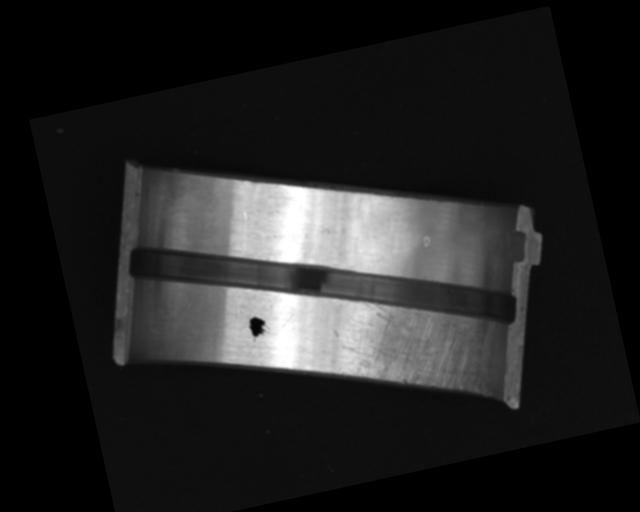blot: (245, 313, 271, 343)
bruise: (421, 234, 432, 249)
gap: (122, 171, 518, 400)
nick: (233, 211, 255, 257)
scratch: (329, 276, 493, 420)
